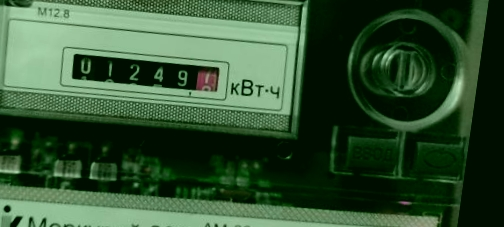0: (77, 54, 93, 75)
1: (102, 57, 115, 77)
2: (126, 60, 142, 82)
4: (151, 63, 164, 83)
7: (199, 64, 214, 85)
9: (173, 66, 189, 88)
screen: (50, 37, 230, 106)
